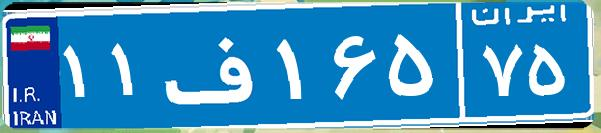1: (273, 28, 330, 110), (57, 26, 110, 107), (110, 28, 158, 105)
5: (385, 28, 445, 110), (525, 38, 570, 115)
6: (330, 28, 385, 110)
7: (475, 38, 525, 113)
ف: (158, 15, 273, 115)
